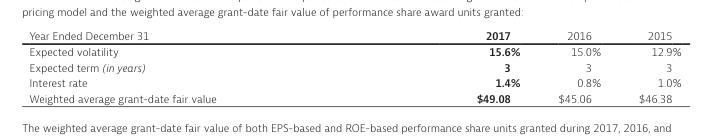table: (28, 28, 680, 105)
table column: (28, 28, 345, 105), (345, 28, 538, 105), (538, 28, 619, 105), (619, 28, 680, 105)
table column header: (28, 28, 680, 43)
table row: (28, 43, 680, 59), (28, 74, 680, 90), (28, 28, 680, 43), (28, 59, 680, 74), (28, 90, 680, 105)
